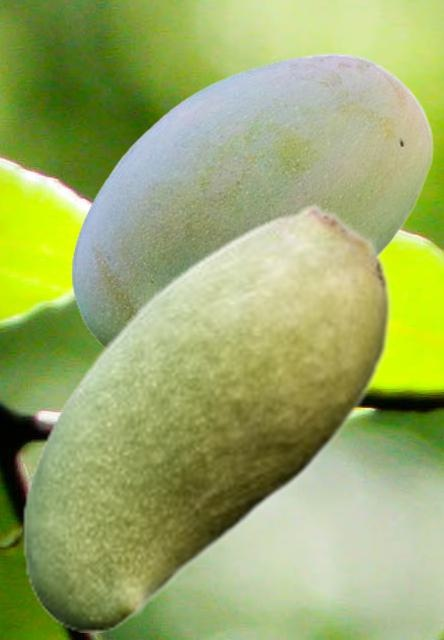green_mango: (21, 203, 391, 631), (71, 53, 433, 347)
